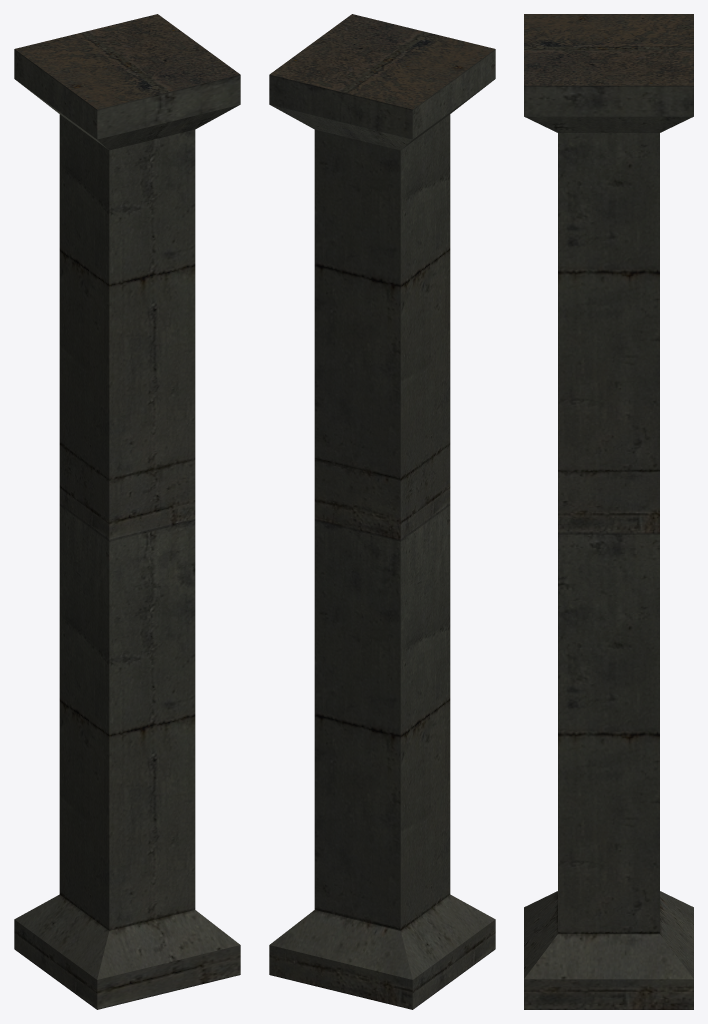
The model's file is pillar_rg_10.dae.
3 renders of one model, left to right at view 1: azimuth 30°, elevation 25°; view 2: azimuth 150°, elevation 25°; view 3: azimuth 270°, elevation 25°, orthographic. The views are drawn at different scales.
Parts seen in each view (by area): view 1: pillar_rg_10; view 2: pillar_rg_10; view 3: pillar_rg_10.
Part boxes in pixels (x1,y1,x2,y2): pillar_rg_10: (14,14,240,1009); pillar_rg_10: (269,14,495,1009); pillar_rg_10: (524,14,693,1009).
Bounding box in the file's own units: 1 × 1 × 6.
2 materials, 2 textured.
